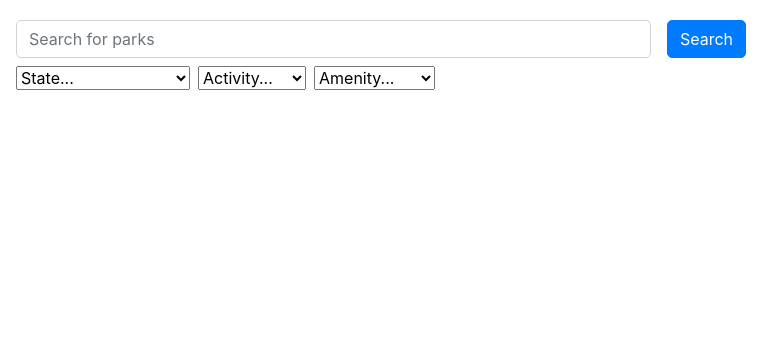
it: Search component tests › handle search filtering
Click the button "Search" at (706, 39), box x1=667 y1=20 x2=746 y2=58
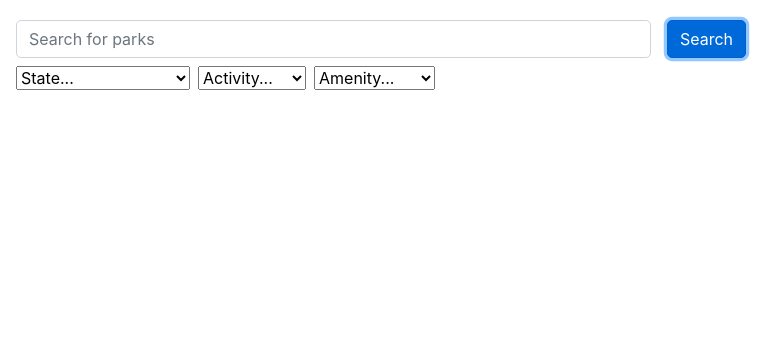
// apply state filter
Select "California" in the dropdown with test id "state" at (103, 78), box x1=16 y1=66 x2=190 y2=90
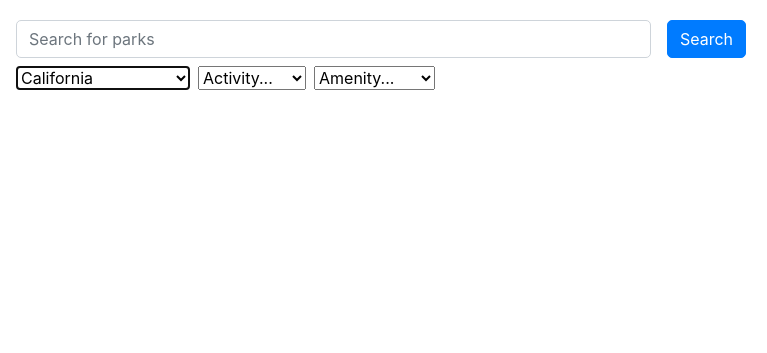
// apply activity filter
Select "Fishing" in the dropdown with test id "activity" at (252, 78), box x1=198 y1=66 x2=306 y2=90
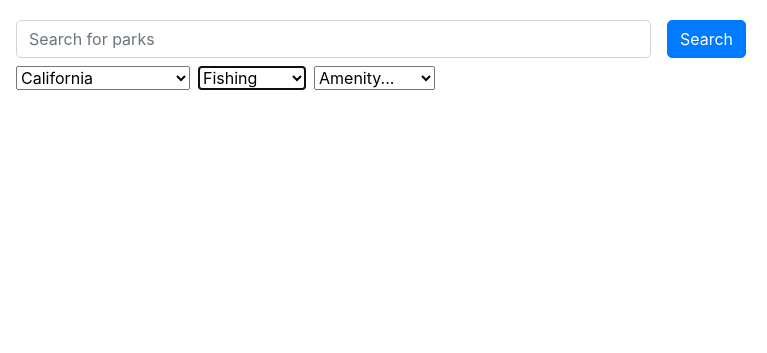
// apply amenity filter
Select "Test Amenity" in the dropdown with test id "amenity" at (374, 78), box x1=314 y1=66 x2=435 y2=90
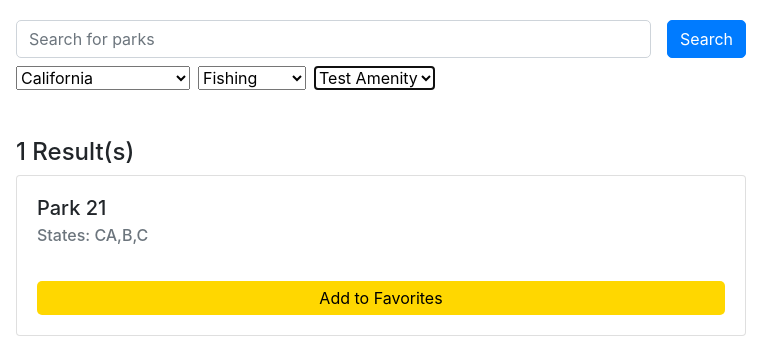
Expected: the heading "1 Result(s)" is shown, x1=16 y1=137 x2=134 y2=166
